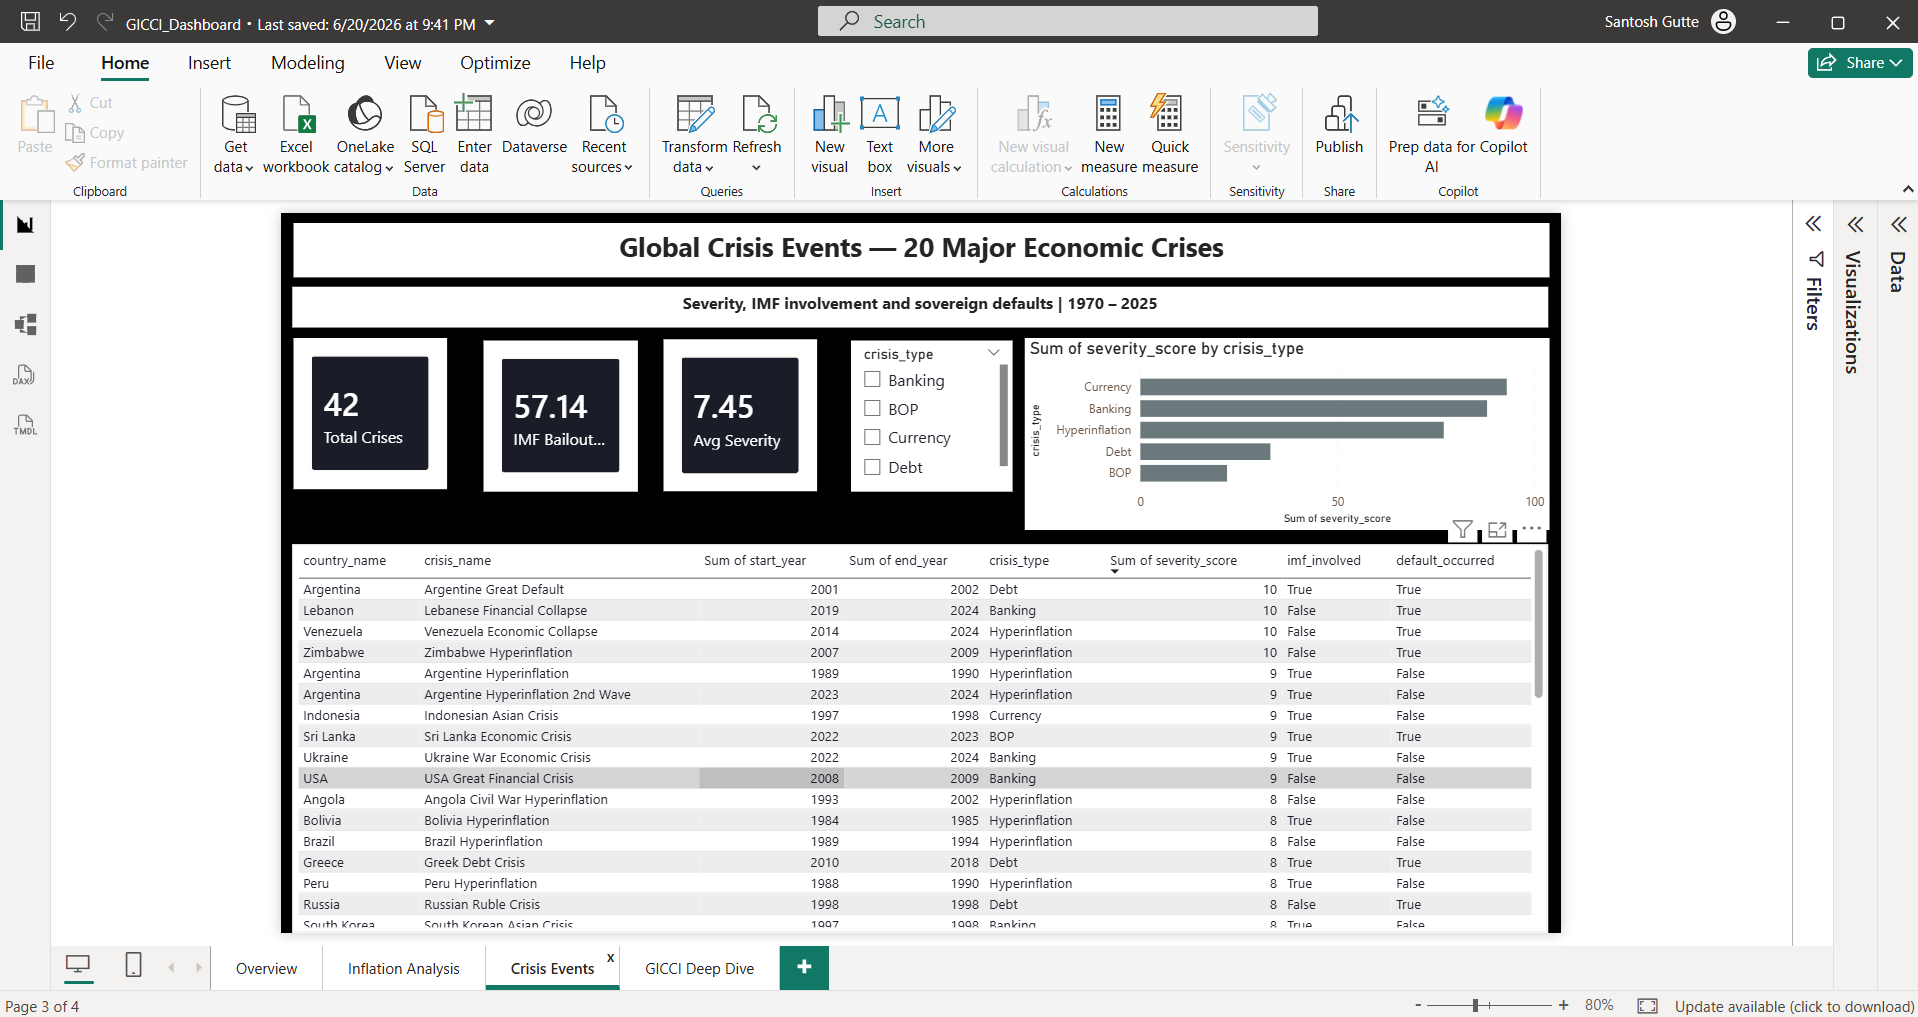

The dashboard page shown, as its layout file describes it:
{"tool":"powerbi","page":{"name":"Crisis Events","canvas":[1280,720],"ordinal":2},"visuals":[{"type":"textbox","box":[12.1,9.7,1255.9,54.3],"z":0},{"type":"textbox","box":[10.9,73.6,1255.9,41],"z":1000},{"type":"cardVisual","fields":{"Data":["gicci_db countries.Total Crises"]},"box":[12.1,125.5,153.2,150.8],"z":2000},{"type":"cardVisual","fields":{"Data":["gicci_db countries.Avg Severity"]},"box":[382.4,126.7,153.2,152],"z":3000},{"type":"cardVisual","fields":{"Data":["gicci_db countries.IMF Bailout Rate"]},"box":[202.7,127.9,154.4,150.8],"z":4000},{"type":"clusteredBarChart","fields":{"Category":["gicci_db crisis_events.crisis_type"],"Y":["Sum(gicci_db crisis_events.severity_score)"]},"box":[743.2,125.5,524.8,191.8],"z":5000},{"type":"slicer","fields":{"Values":["gicci_db crisis_events.crisis_type"]},"box":[569.4,127.9,161.7,150.8],"z":6000},{"type":"tableEx","fields":{"Values":["gicci_db countries.country_name","gicci_db crisis_events.crisis_name","Sum(gicci_db crisis_events.start_year)","Sum(gicci_db crisis_events.end_year)","gicci_db crisis_events.crisis_type","Sum(gicci_db crisis_events.severity_score)","gicci_db crisis_events.imf_involved","gicci_db crisis_events.default_occurred"]},"box":[10.9,331.8,1255.9,388.5],"z":7000}]}

Visuals, with their boxes on the page's 1280x720 design canvas (x1, y1, x2, y2). These are canvas units, not pixel positions in the 1918x1017 screenshot, which may show the page scaled, cropped or inside an application window:
textbox: 12, 10, 1268, 64
textbox: 11, 74, 1267, 115
cardVisual - gicci_db countries.Total Crises: 12, 126, 165, 276
cardVisual - gicci_db countries.Avg Severity: 382, 127, 536, 279
cardVisual - gicci_db countries.IMF Bailout Rate: 203, 128, 357, 279
clusteredBarChart - gicci_db crisis_events.crisis_type x Sum(gicci_db crisis_events.severity_score): 743, 126, 1268, 317
slicer - gicci_db crisis_events.crisis_type: 569, 128, 731, 279
tableEx - gicci_db countries.country_name x gicci_db crisis_events.crisis_name: 11, 332, 1267, 720
